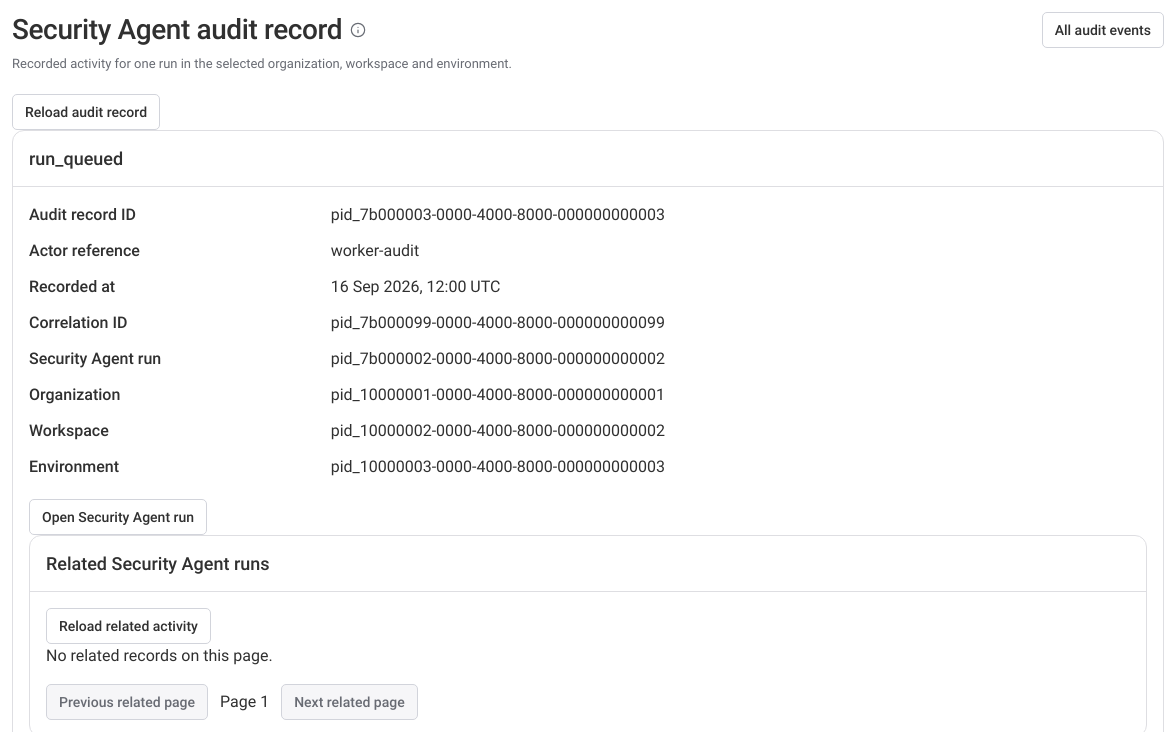
Test: exact Security Agent audit detail › hides previously loaded authority after a 403 reload
Expected: the text "worker-audit" is shown, x1=331 y1=241 x2=419 y2=260
Click the button "Reload audit record": (86, 112) x1=12 y1=94 x2=160 y2=130
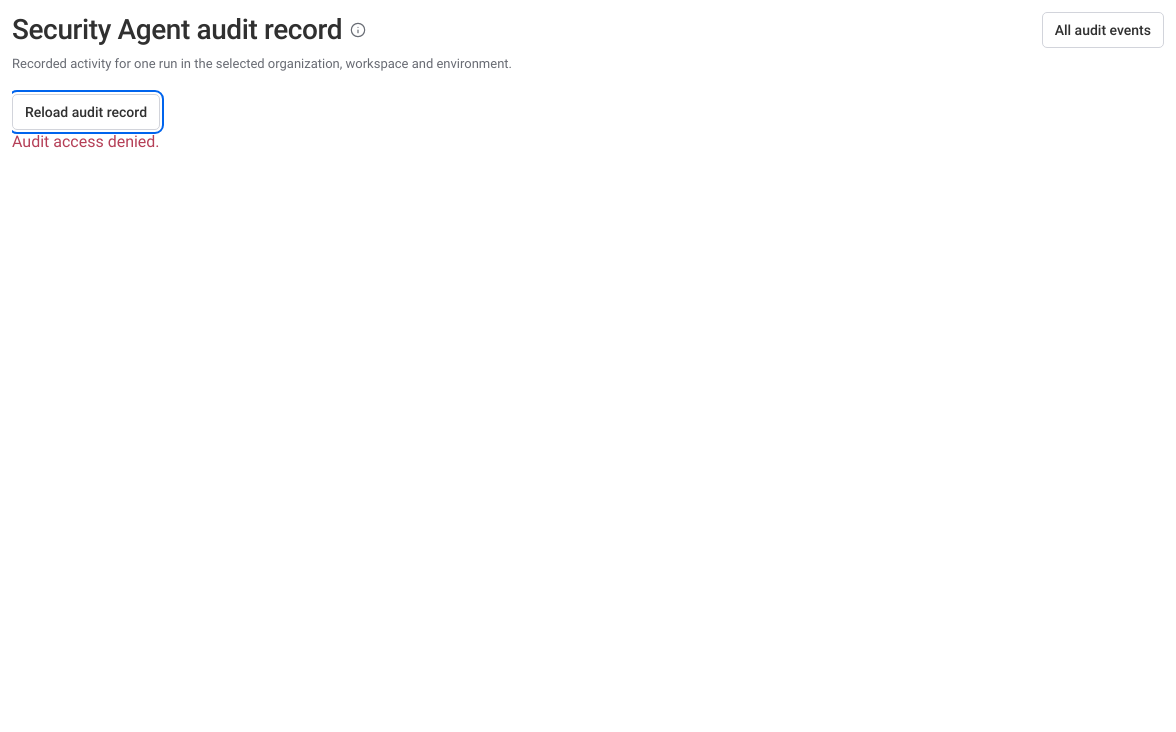
Now the message shows "Audit access denied", box x1=12 y1=132 x2=160 y2=151
Now the text "worker-audit" is gone
Now the button "Open Security Agent run" is gone
